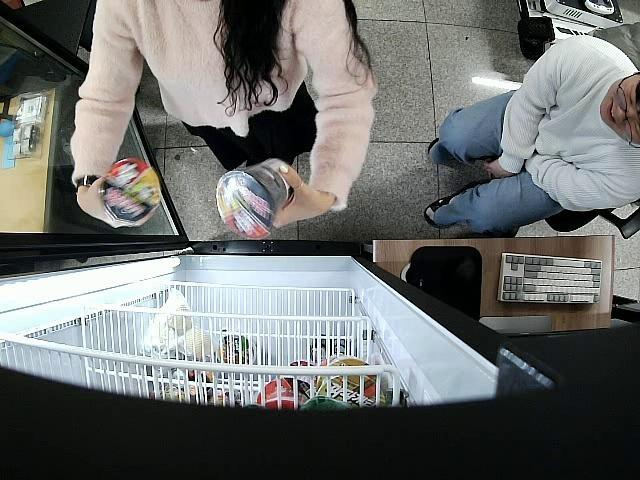08_buldak_S: (216, 158, 296, 239), (100, 158, 161, 223)
